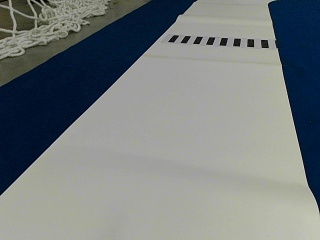crosswalk: (167, 33, 276, 49)
